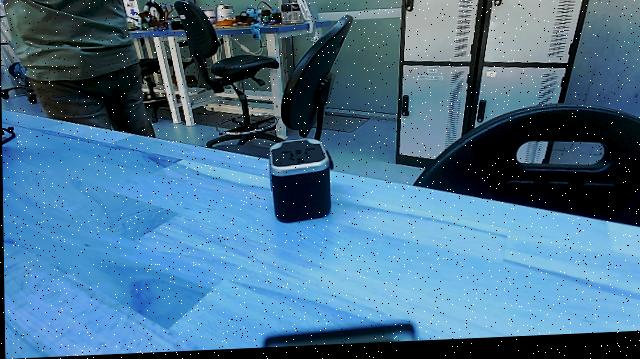adapter: (266, 139, 335, 228)
